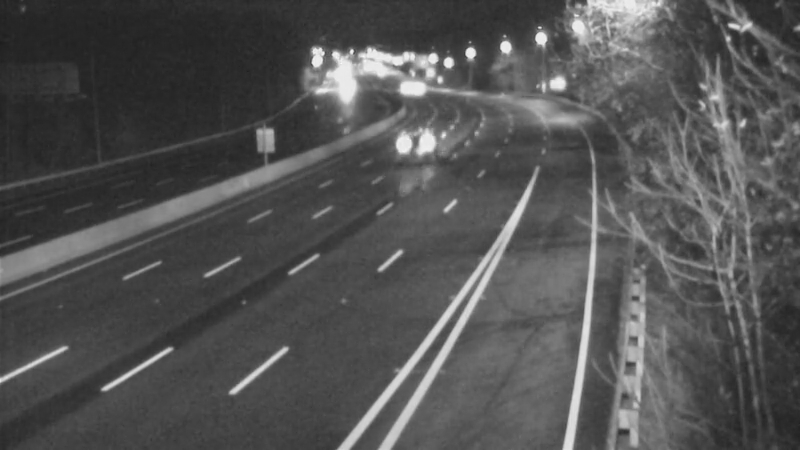vehicle: (389, 60, 439, 110), (379, 63, 429, 113), (393, 118, 443, 168)
